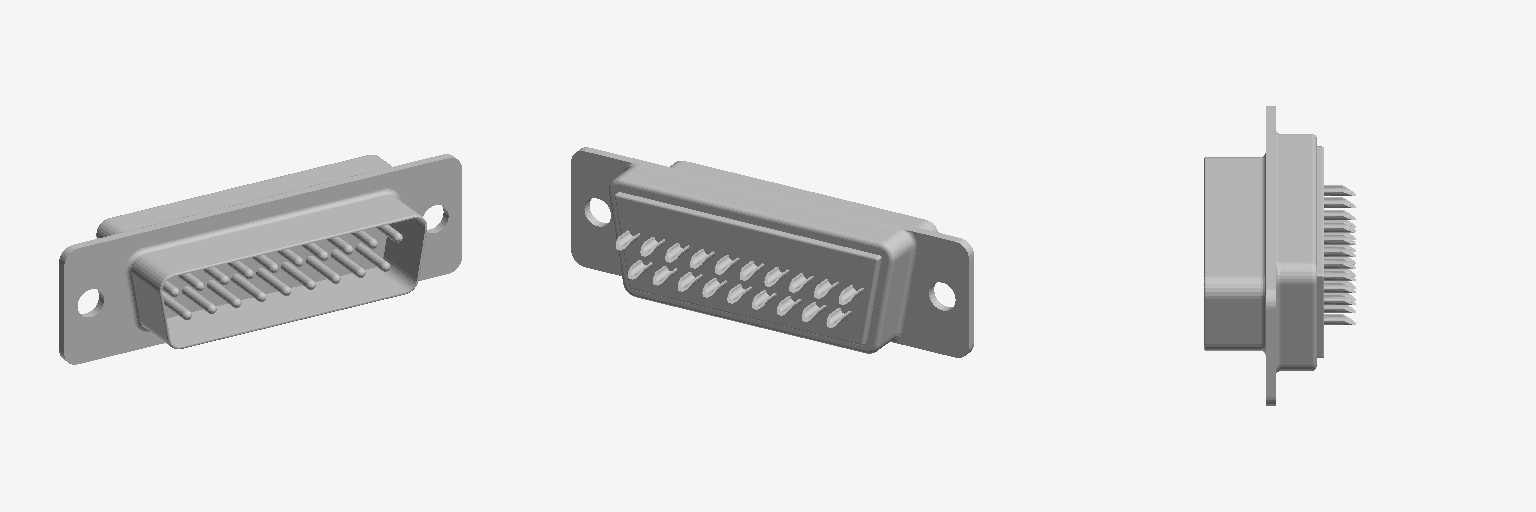
File: ddMale19Pin.obj
3 views of the same model, side by side, from view 1: azimuth 30°, elevation 25°; view 2: azimuth 150°, elevation 25°; view 3: azimuth 270°, elevation 25° (orthographic).
Parts seen in each view (by area): view 1: Part__Feature; view 2: Part__Feature; view 3: Part__Feature.
Part boxes in pixels (x1,y1,x2,y2): Part__Feature: (59, 154, 461, 364); Part__Feature: (571, 147, 973, 357); Part__Feature: (1204, 106, 1355, 405).
Size of the model in its own units: 44.9 by 12.5 by 14.8.